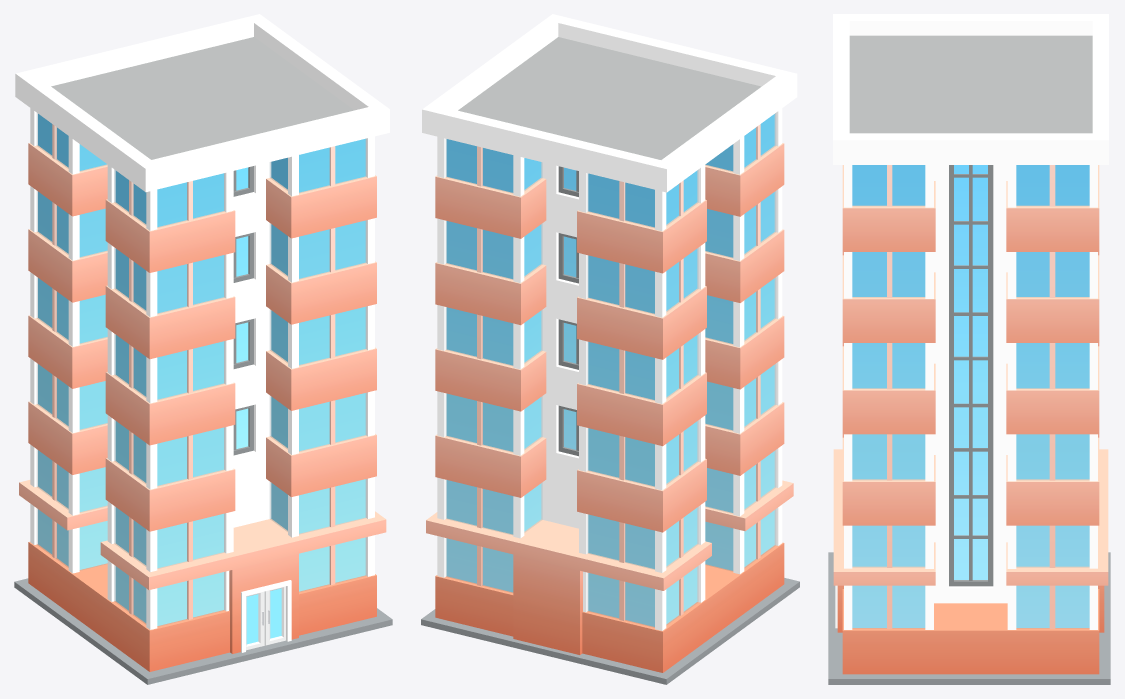
File: city2-building-living-45.glb
The picture shows the model from 3 angles, left to right: view 1: azimuth 30°, elevation 25°; view 2: azimuth 150°, elevation 25°; view 3: azimuth 270°, elevation 25°; orthographic projection. The views are drawn at different scales.
Parts seen in each view (by area): view 1: Building_Living_45; view 2: Building_Living_45; view 3: Building_Living_45.
Boxes of the visible parts, x1=… form: Building_Living_45: x1=14, y1=14, x2=392, y2=684; Building_Living_45: x1=421, y1=14, x2=799, y2=684; Building_Living_45: x1=828, y1=14, x2=1110, y2=684.
Bounding box in the file's own units: 9.86 × 19.78 × 9.28.
Materials: 2 (2 with a texture image).
